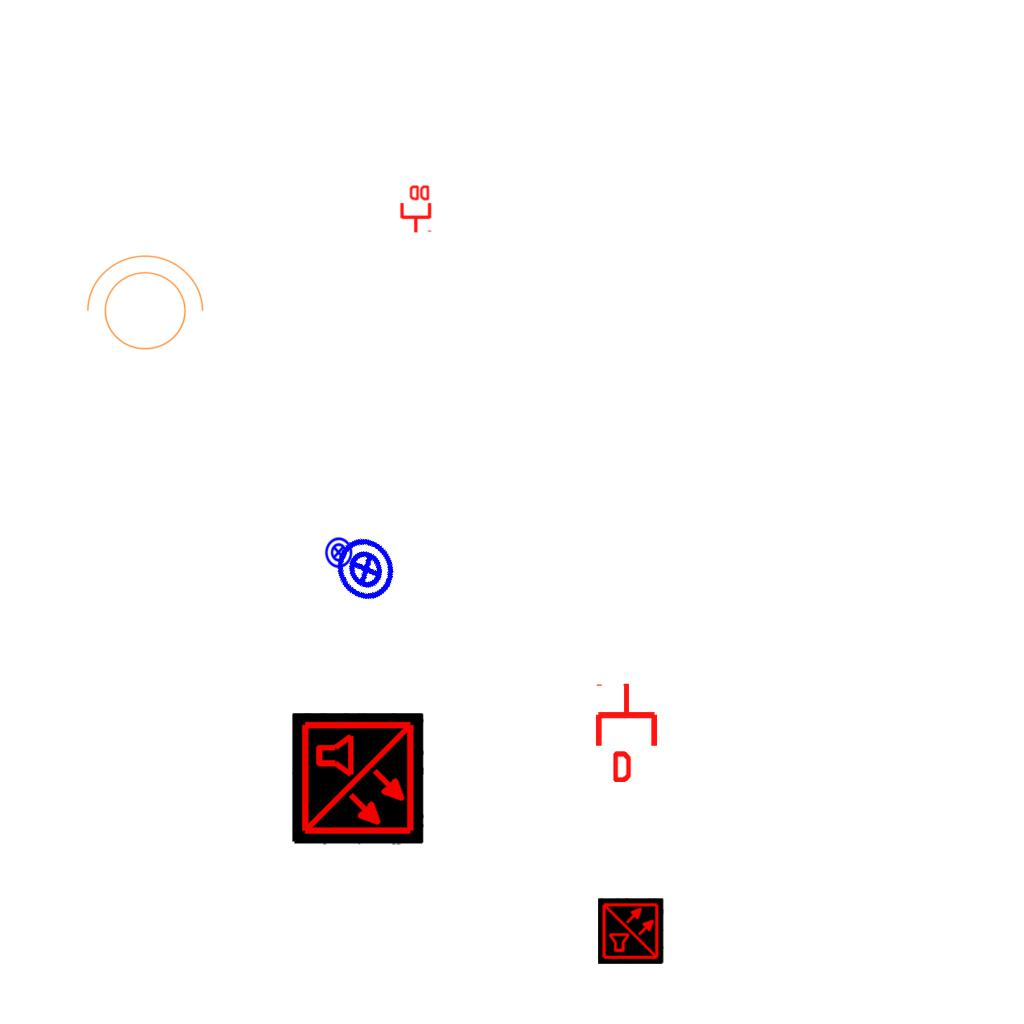Datenanschluss_einfach: (592, 682, 661, 782)
Datenanschluss_zweifach: (398, 183, 432, 234)
OKW_Multisensormelder_(Kombination_optischer_Rauch-Kahlenmonoxid_Waerme-Melder): (292, 713, 424, 845), (598, 898, 664, 964)
Scheinwerfer_fuer_Alarmbeleuchtung: (76, 250, 208, 362)
Taster_beleuchtet: (322, 525, 410, 613), (334, 794, 367, 827), (322, 536, 355, 569)
